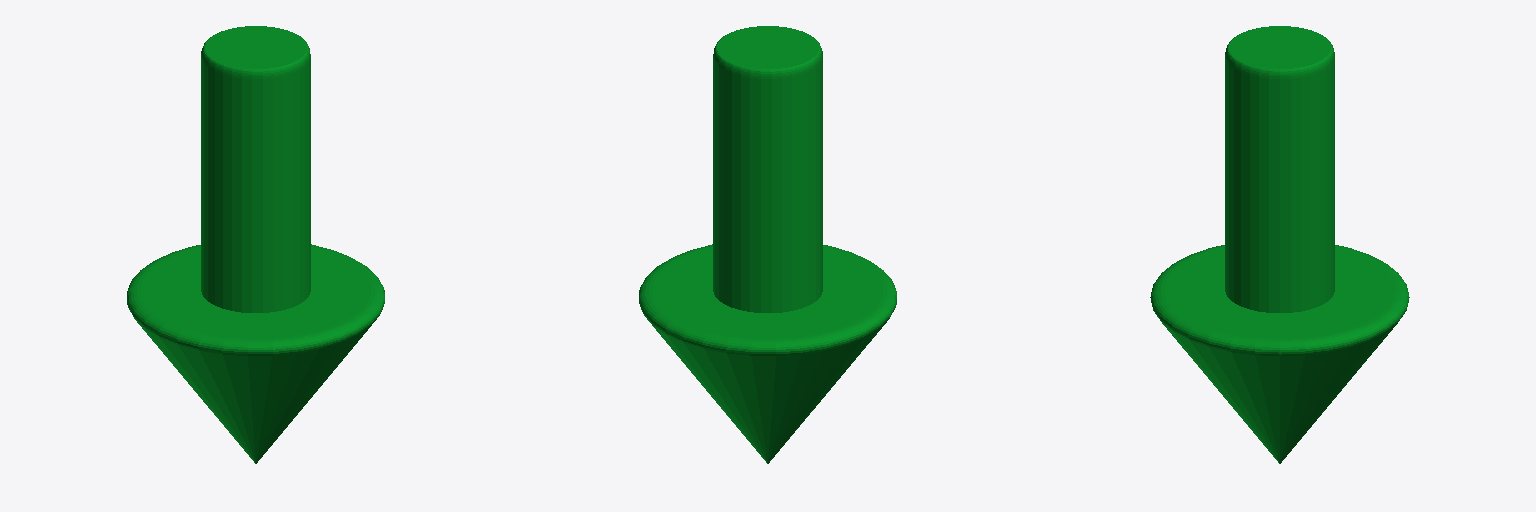
File: arrow.obj
3 renders of one model, left to right at view 1: azimuth 30°, elevation 25°; view 2: azimuth 150°, elevation 25°; view 3: azimuth 270°, elevation 25°, orthographic.
Visible parts, largest first — view 1: Cone; view 2: Cone; view 3: Cone.
Part boxes in pixels (x1,y1,x2,y2): Cone: (127,26,384,463); Cone: (639,26,896,463); Cone: (1150,26,1409,463).
Size of the model in its own units: 1.89 by 3.35 by 1.89.